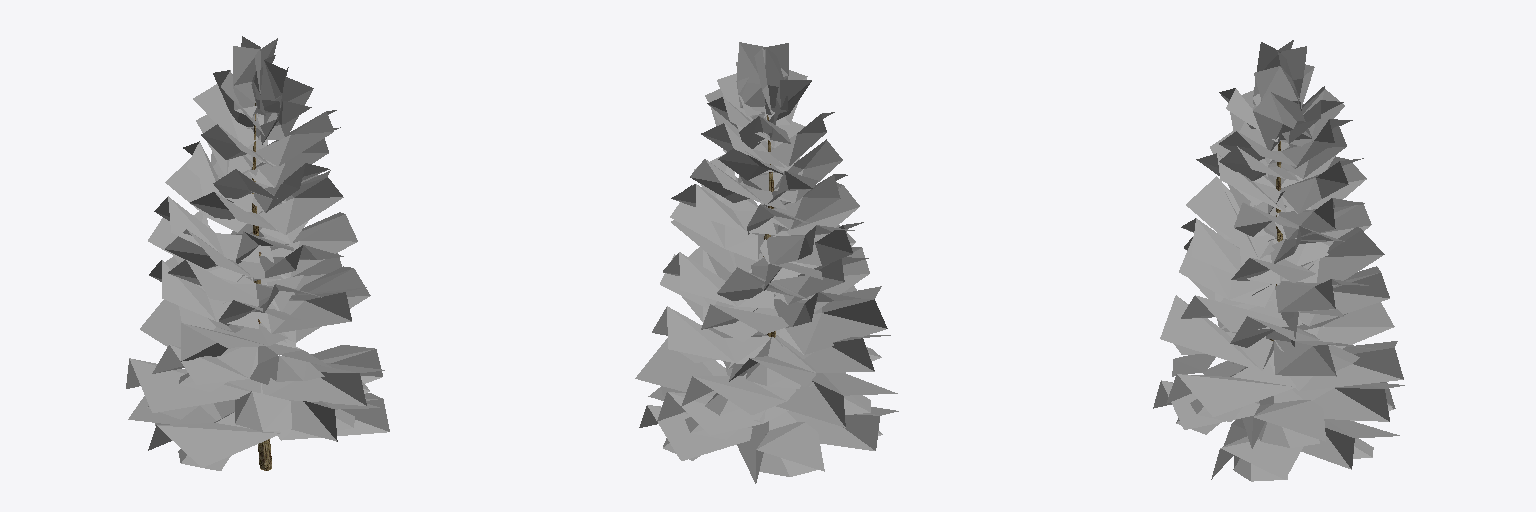
The picture shows the model from 3 angles: view 1: azimuth 30°, elevation 25°; view 2: azimuth 150°, elevation 25°; view 3: azimuth 270°, elevation 25°; orthographic projection.
Parts seen in each view (by area): view 1: mesh1_mesh1.002, mesh0_mesh0.002; view 2: mesh1_mesh1.002; view 3: mesh1_mesh1.002.
Part boxes in pixels (bbox=[...]): mesh1_mesh1.002: bbox=[126, 36, 389, 470]; mesh0_mesh0.002: bbox=[252, 103, 271, 470]; mesh1_mesh1.002: bbox=[635, 42, 898, 483]; mesh1_mesh1.002: bbox=[1153, 40, 1404, 481].
Bounding box in the file's own units: 93.69 × 161 × 88.16.
Materials: 2 (1 with a texture image).